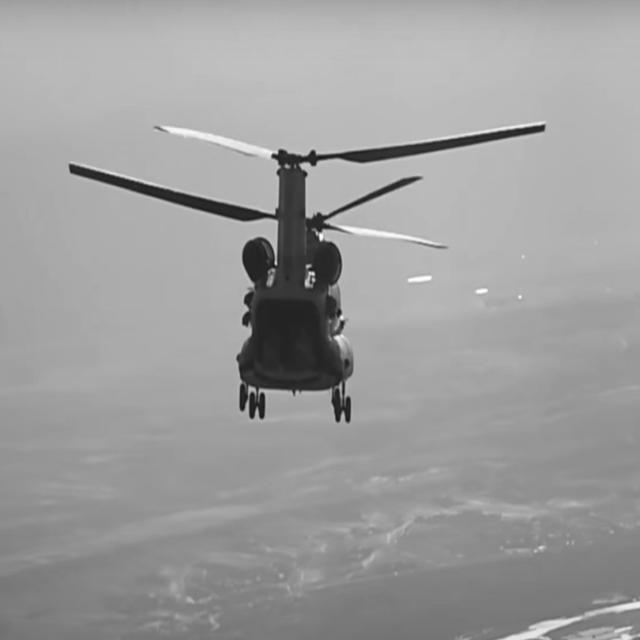Helicopter: (70, 122, 545, 420)
